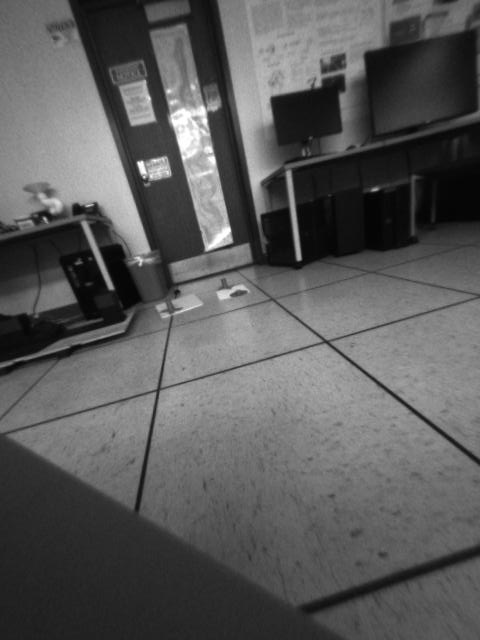X: (157, 294, 182, 319), (212, 277, 231, 293)
